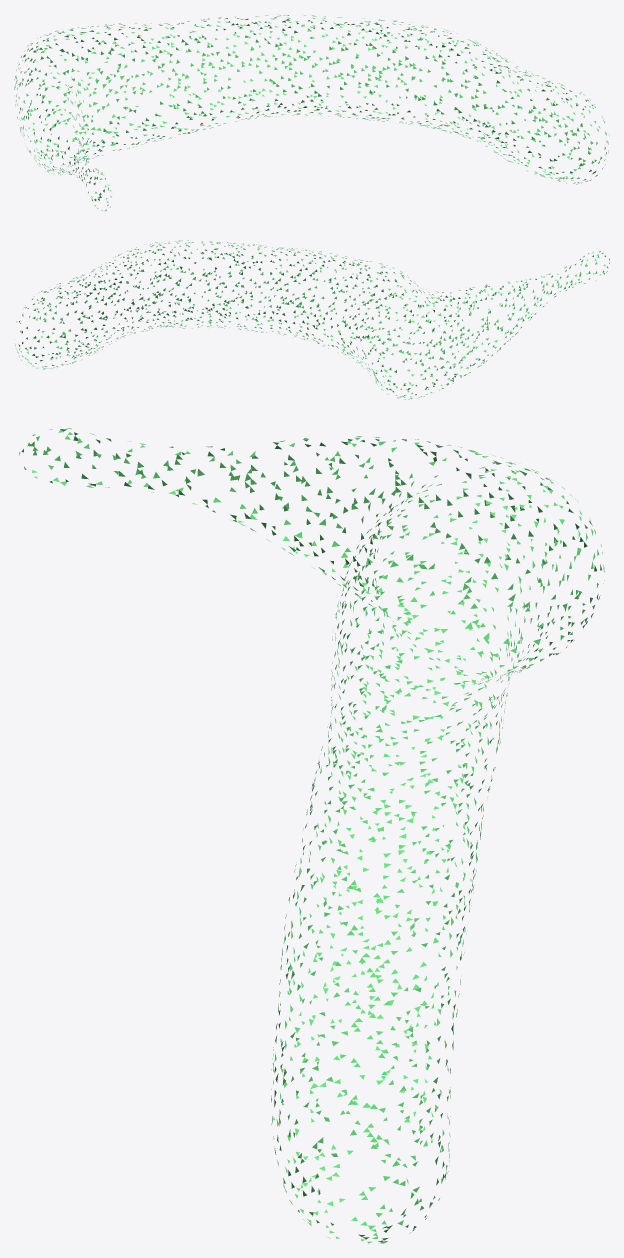
The model's file is morph_019.glb.
The picture shows the model from 3 angles, top to bottom: view 1: azimuth 30°, elevation 25°; view 2: azimuth 150°, elevation 25°; view 3: azimuth 270°, elevation 25°; orthographic projection. The views are drawn at different scales.
Size of the model in its own units: 118 by 44.44 by 59.51.
